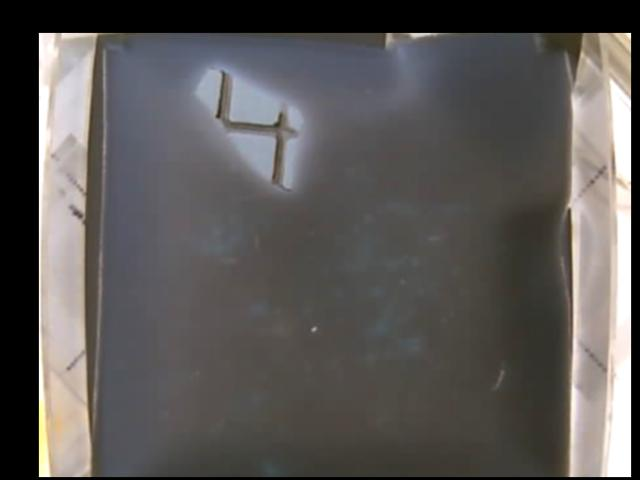China: (197, 67, 301, 194)
